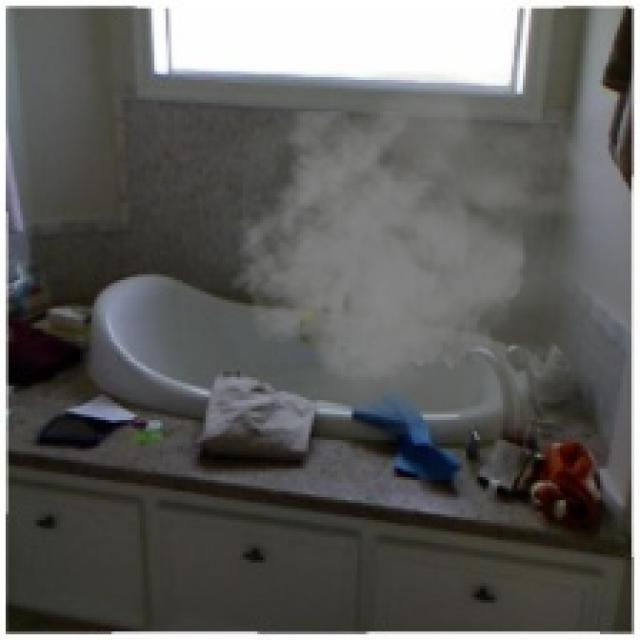smoke: (228, 71, 632, 440)
